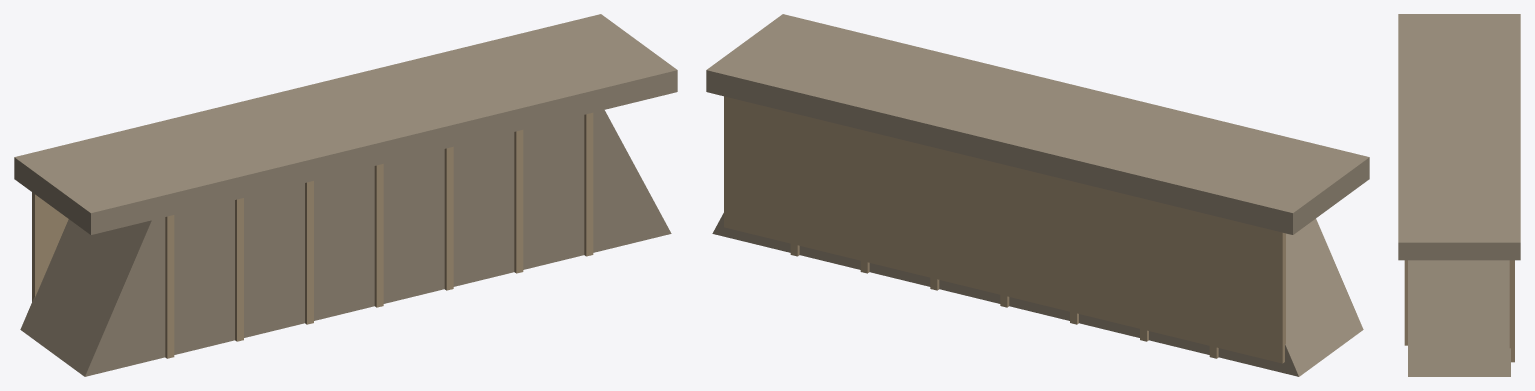
3 renders of one model, left to right at view 1: azimuth 30°, elevation 25°; view 2: azimuth 150°, elevation 25°; view 3: azimuth 270°, elevation 25°, orthographic. The views are drawn at different scales.
Parts seen in each view (by area): view 1: revetment; view 2: revetment; view 3: revetment.
Part boxes in pixels (bbox=[...]): revetment: bbox=[14, 14, 677, 376]; revetment: bbox=[706, 14, 1369, 376]; revetment: bbox=[1398, 14, 1520, 376].
Size of the model in its own units: 8.4 by 2.3 by 1.9.
